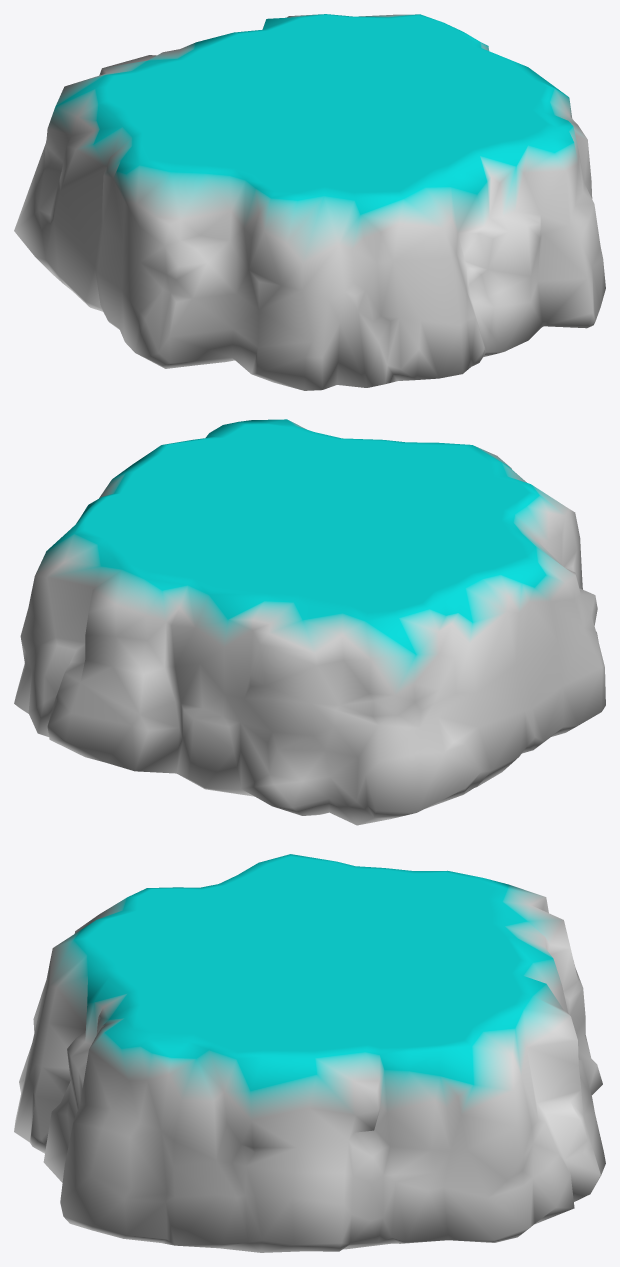
File: Homeworld_Exterior_Common_Rockery_04_Lod0.fbx
3 renders of one model, top to bottom at view 1: azimuth 30°, elevation 25°; view 2: azimuth 150°, elevation 25°; view 3: azimuth 270°, elevation 25°, orthographic. The views are drawn at different scales.
Visible parts, largest first — view 1: Homeworld_Exterior_Common_Rockery_04_Lod0; view 2: Homeworld_Exterior_Common_Rockery_04_Lod0; view 3: Homeworld_Exterior_Common_Rockery_04_Lod0.
Boxes of the visible parts, left/top/right/bottom form: Homeworld_Exterior_Common_Rockery_04_Lod0: left=14, top=14, right=605, bottom=390; Homeworld_Exterior_Common_Rockery_04_Lod0: left=14, top=419, right=605, bottom=825; Homeworld_Exterior_Common_Rockery_04_Lod0: left=14, top=854, right=605, bottom=1252.
Size of what is drawn, in the model's own units: 15.75 by 6.2 by 16.09.
